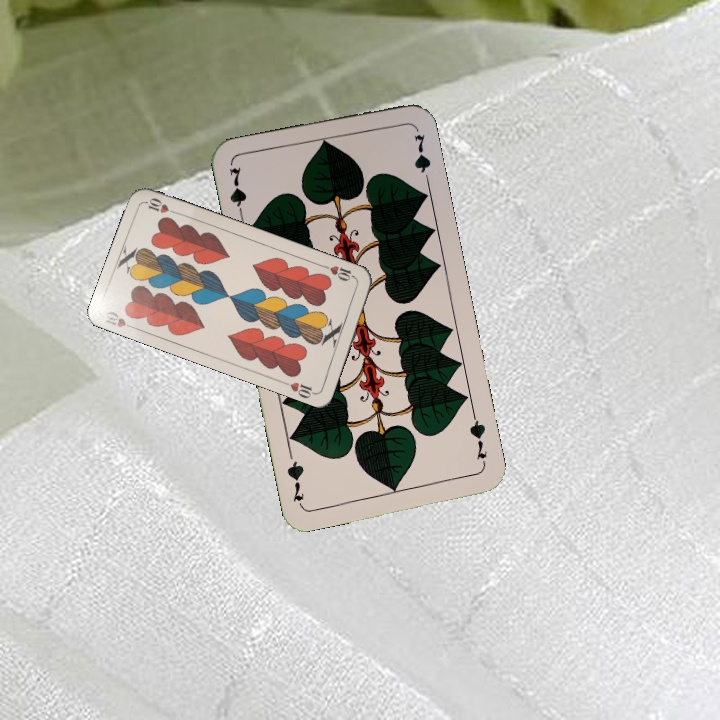G7: (465, 410, 490, 469), (225, 163, 249, 222)
H10: (101, 307, 139, 332), (320, 261, 359, 284)
